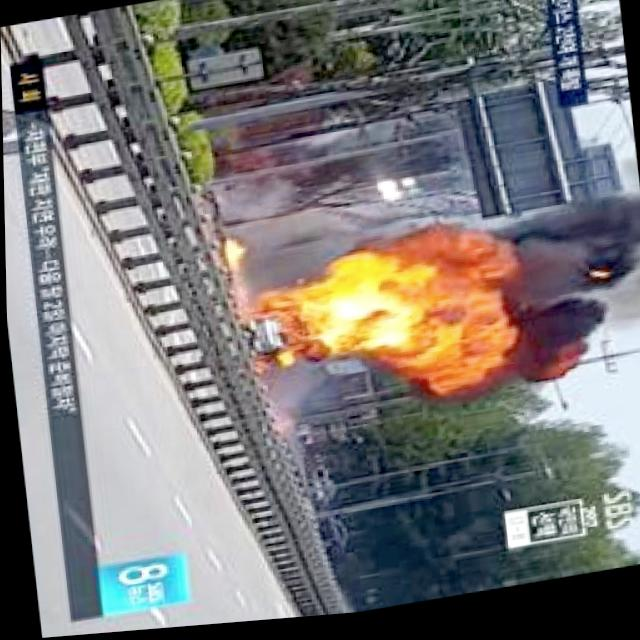helmet: (240, 217, 532, 429), (213, 234, 246, 269)
no_helmet: (497, 201, 640, 396)
